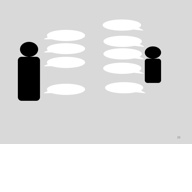left_speech: (41, 82, 87, 97), (41, 27, 86, 42), (43, 55, 87, 70), (44, 42, 87, 53)
right_speech: (101, 60, 144, 76), (103, 80, 145, 96), (101, 17, 143, 32), (101, 34, 146, 47), (101, 47, 144, 59)
